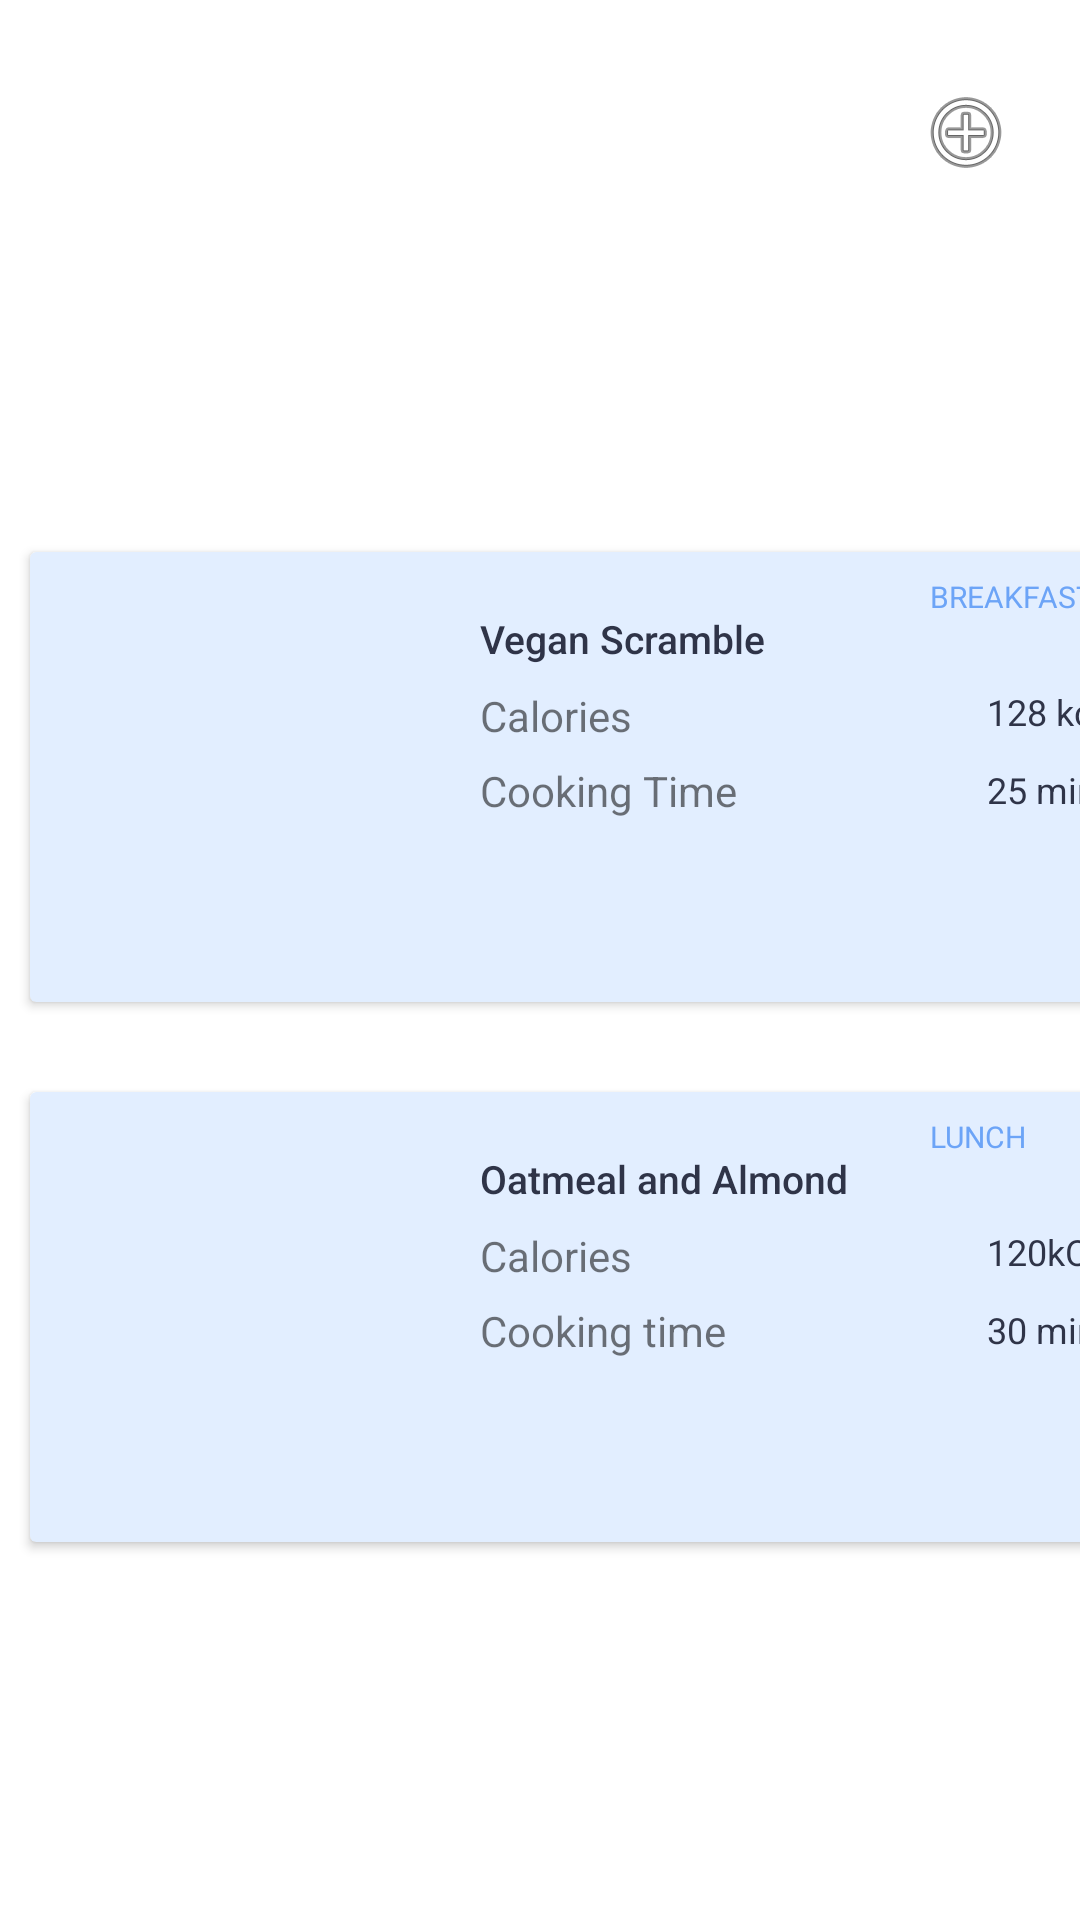

Icons on this 1080 × 1920 Android screen, each with the point to tap as [x,y]:
add: [966,132]
